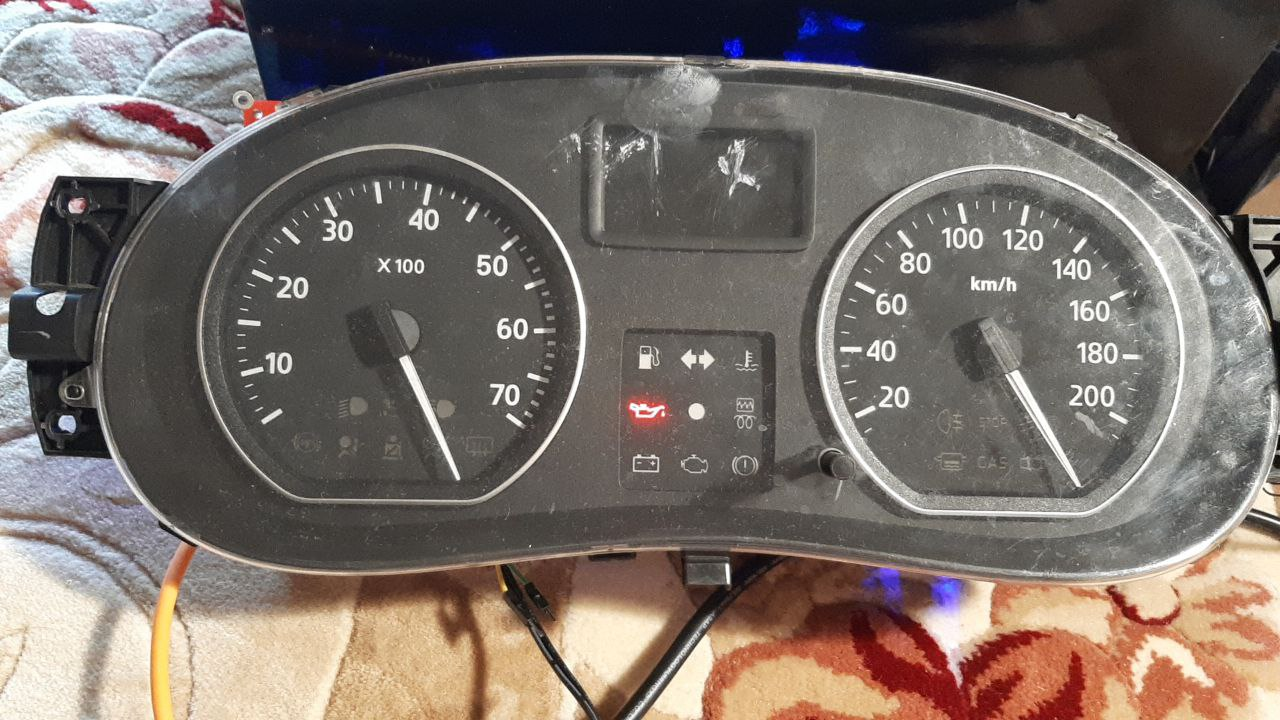oil: (622, 390, 671, 429)
